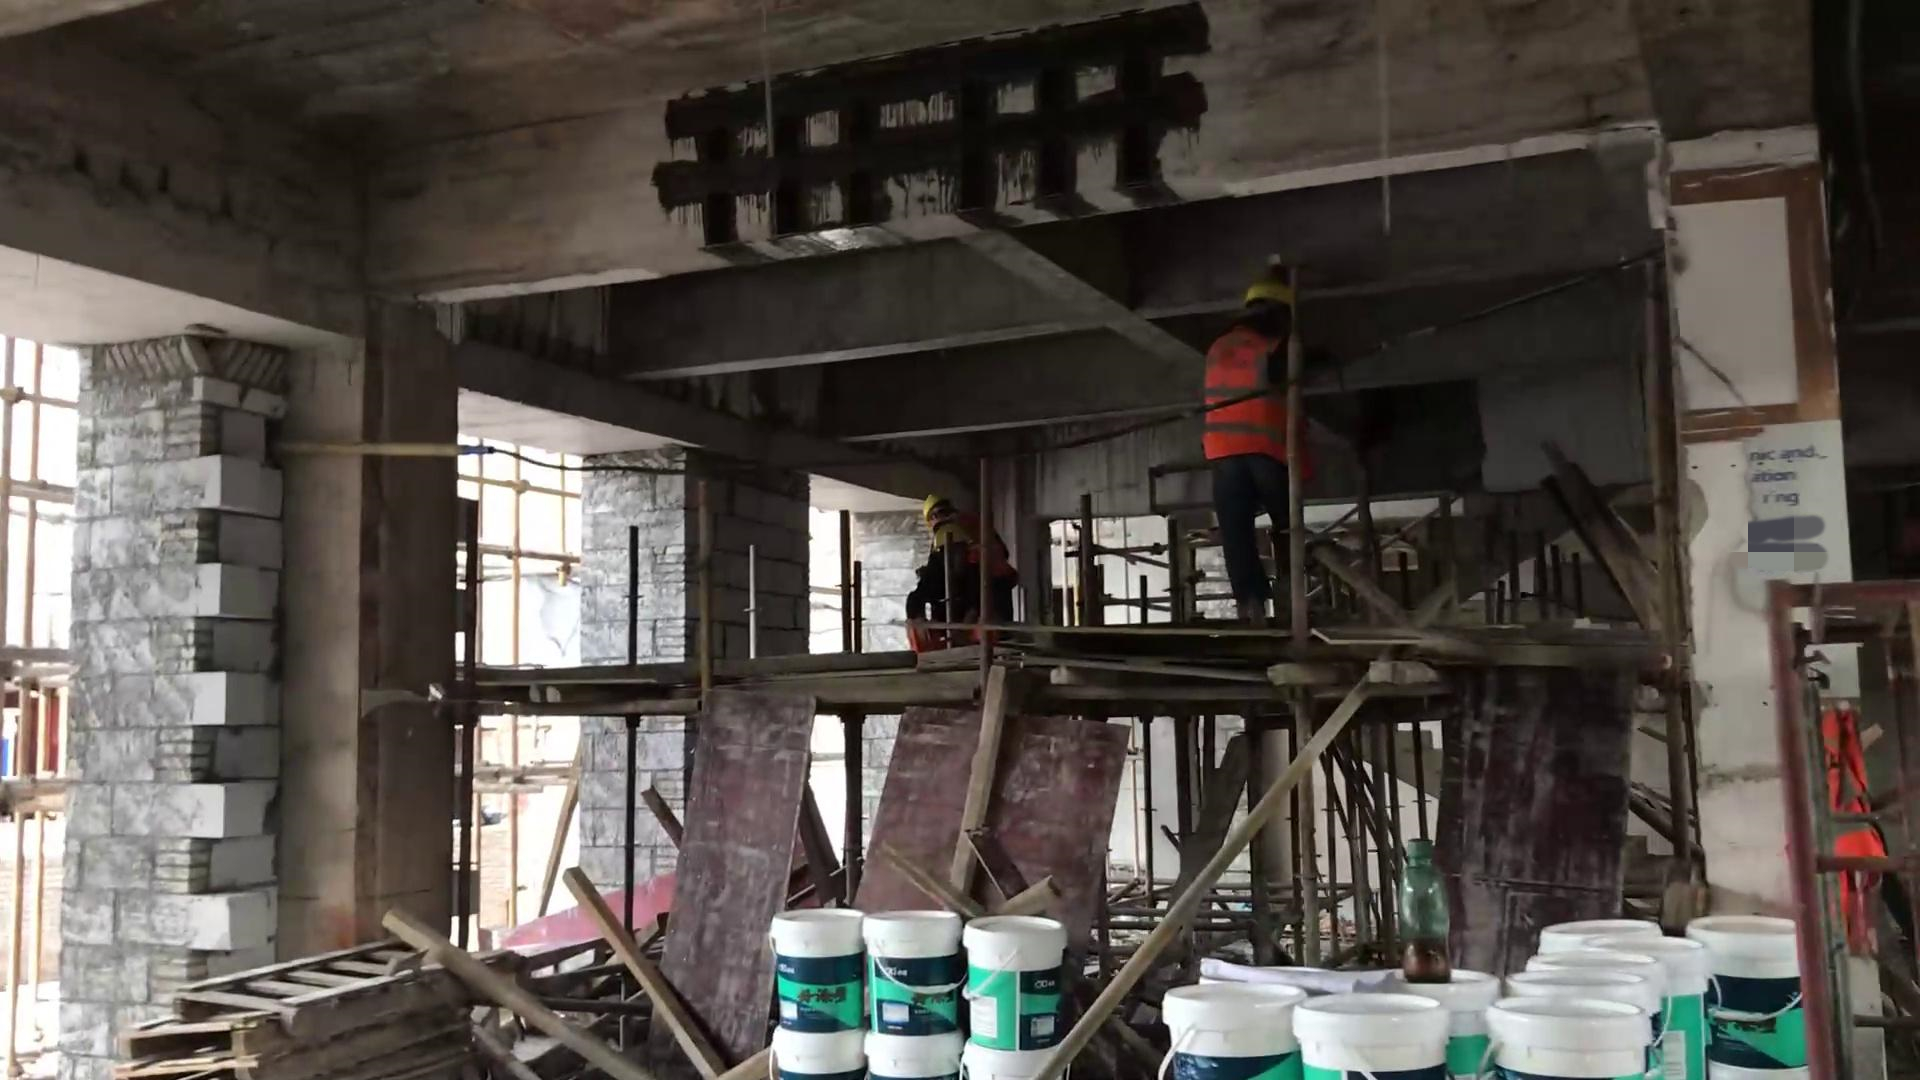helmet: (1234, 271, 1296, 313), (914, 490, 947, 516)
person: (1192, 261, 1311, 617)
vest: (1201, 308, 1293, 464)
